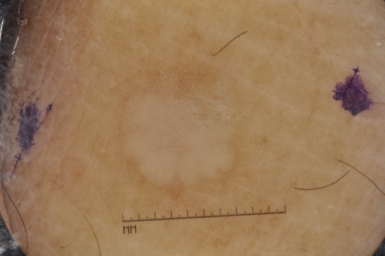seborrheic keratosis: (104, 61, 269, 199)
